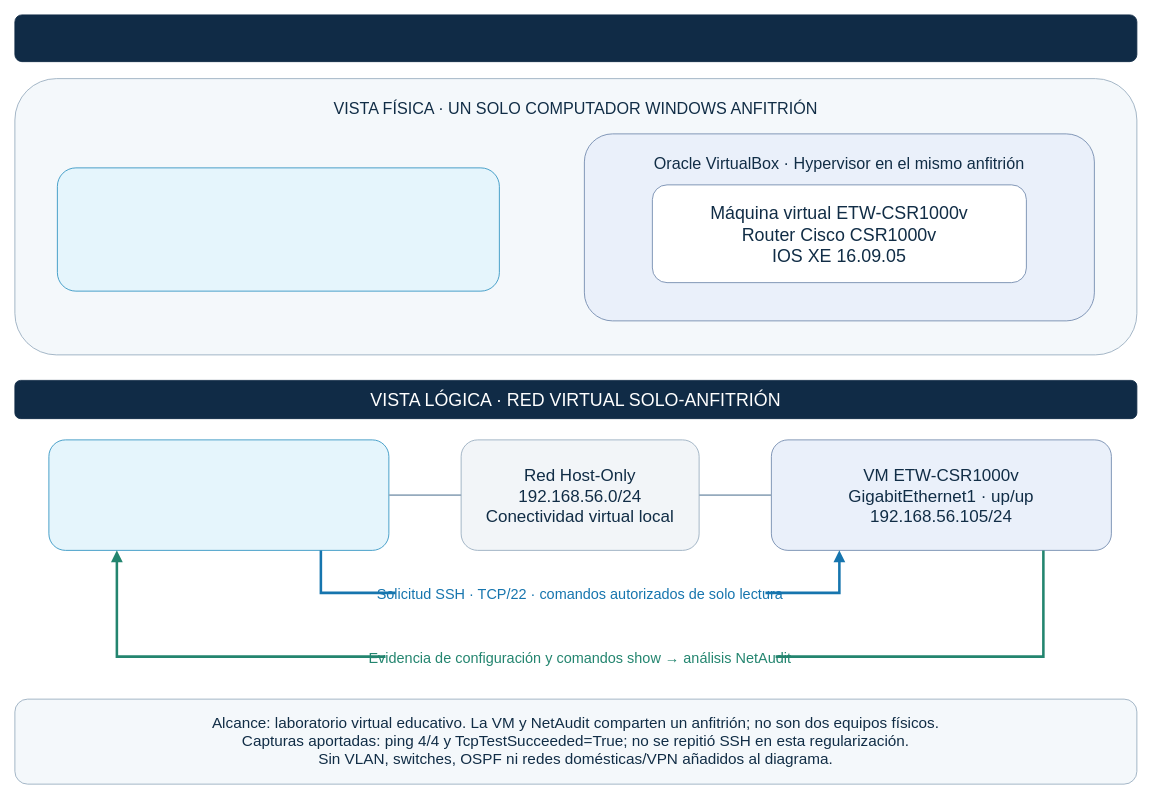
The diagram is 1152 pixels wide and 799 high, and some of its shapes have lost their labels. Here are the shapes that lost their labels. From the top down, the centre of each, then its label:
the point at 575,38: LABORATORIO CISCO CSR1000v · GRUPO 1
the point at 278,229: NetAudit en Windows Streamlit + FastAPI Recolección controlada con Netmiko
the point at 218,494: Windows / NetAudit VirtualBox Host-Only Ethernet Adapter 192.168.56.1/24
